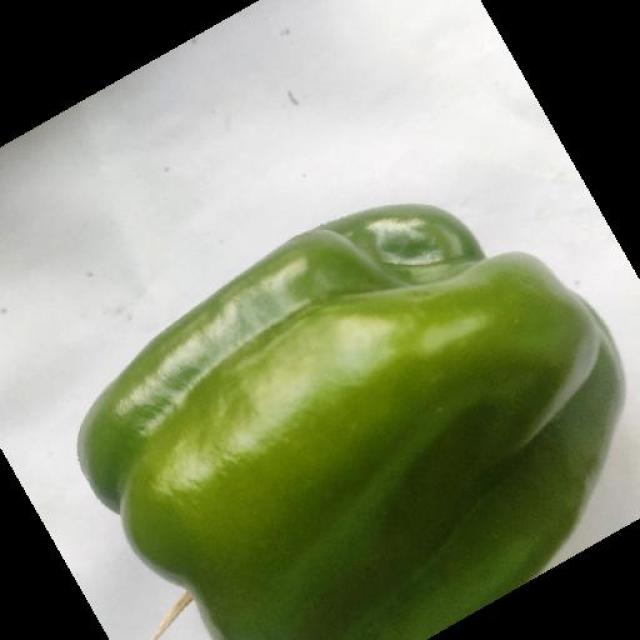Fresh_Capsicum: (97, 200, 561, 635)
